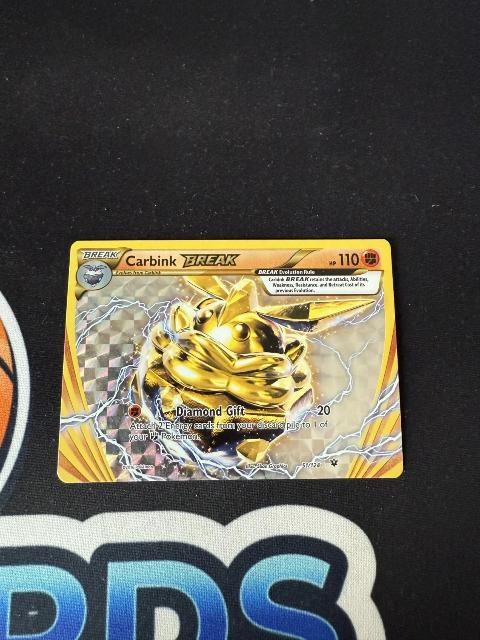Card: (53, 233, 408, 490)
Name: (123, 251, 244, 270)
